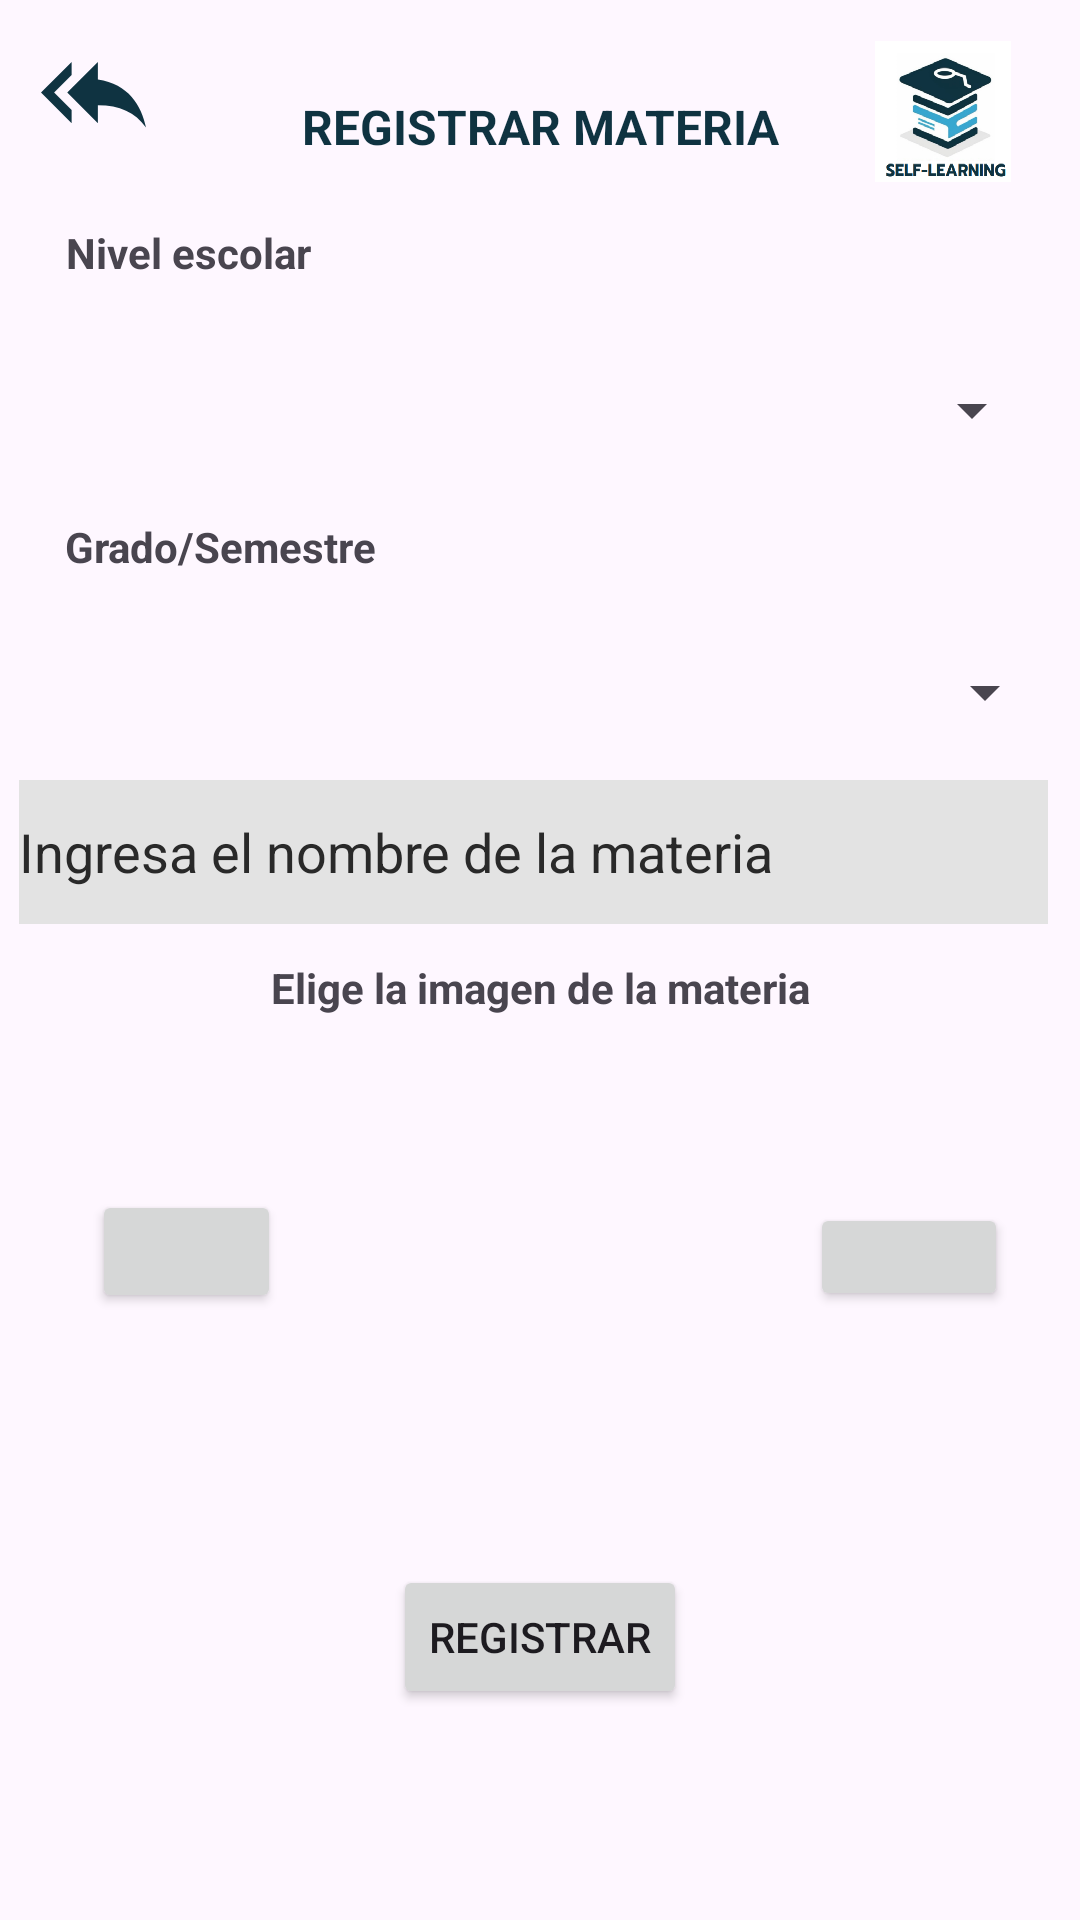

Screen size 1080 × 1920. Icon name, then its box in pixels as (x1, y1, x2, y2):
backimage: (41, 62, 146, 127)
